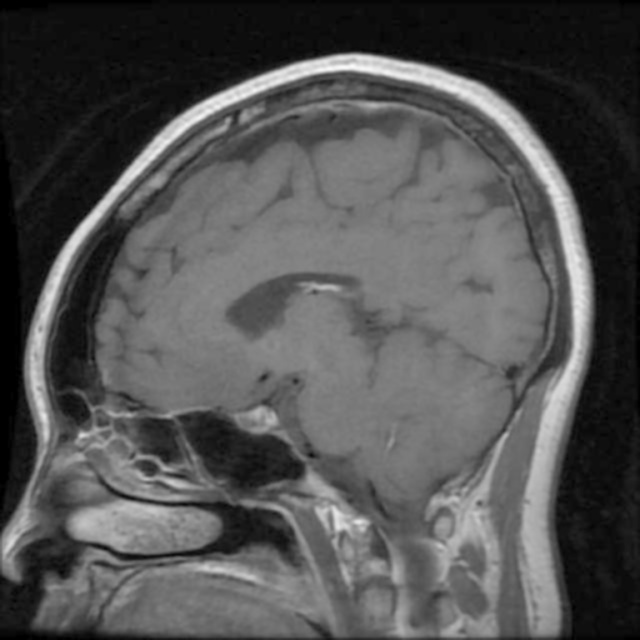no tumor: (230, 400, 288, 436)
